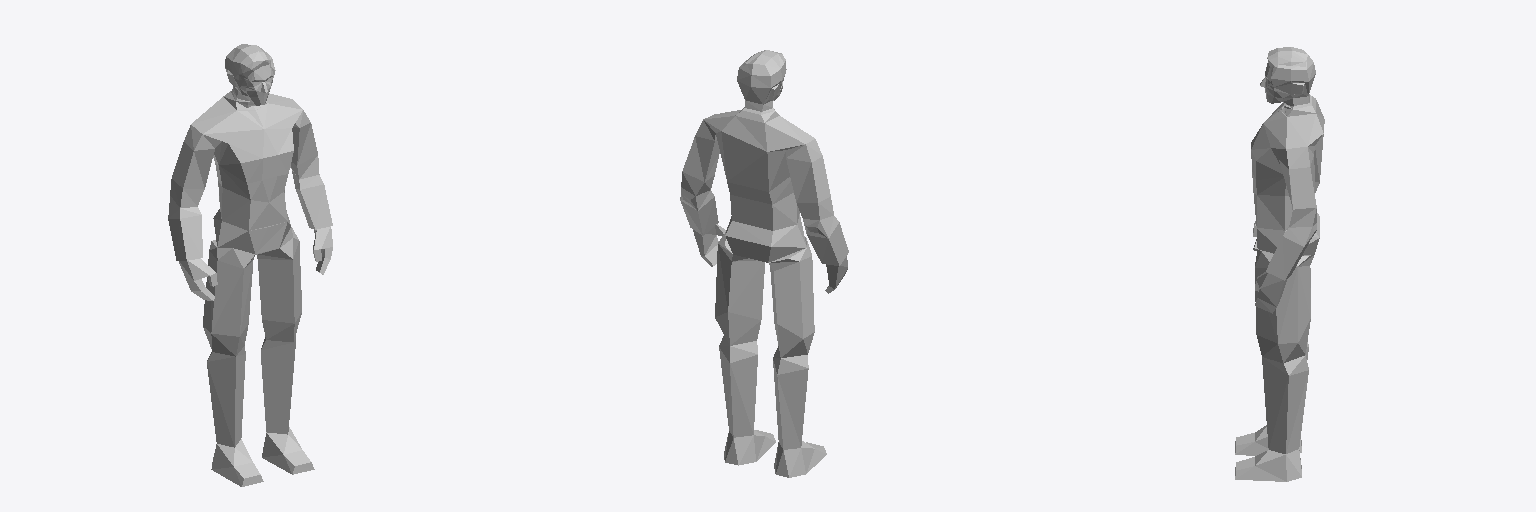
The model's file is Manuel39.obj.
3 renders of one model, left to right at view 1: azimuth 30°, elevation 25°; view 2: azimuth 150°, elevation 25°; view 3: azimuth 270°, elevation 25°, orthographic.
Parts seen in each view (by area): view 1: leon; view 2: leon; view 3: leon.
Part boxes in pixels (x1,y1,x2,y2): leon: (168,44,332,486); leon: (680,50,848,477); leon: (1235,47,1324,481).
Bounding box in the file's own units: 4.68 × 12.19 × 2.4.